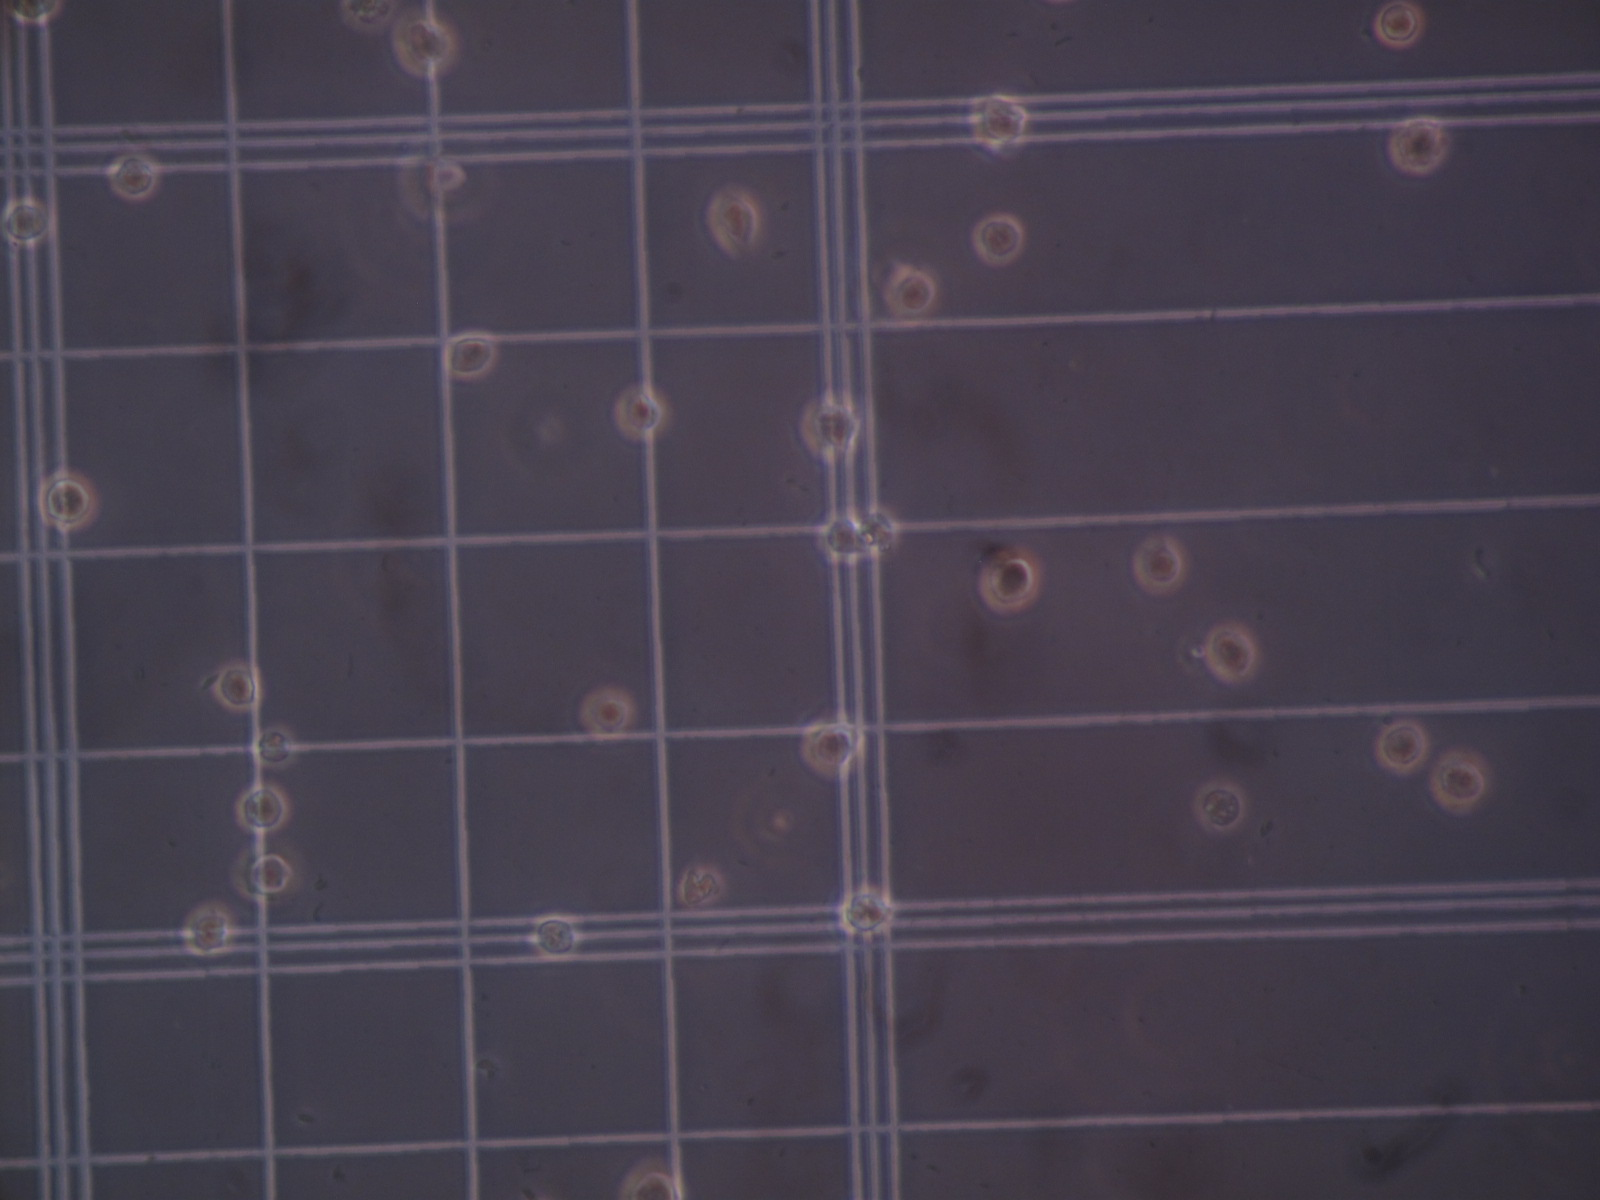hemo: (397, 134, 479, 226), (801, 392, 864, 466), (980, 545, 1039, 614), (37, 466, 97, 532), (611, 381, 670, 446), (394, 16, 459, 76), (801, 718, 867, 776), (1203, 621, 1259, 688), (883, 263, 942, 325), (232, 845, 291, 906), (1386, 117, 1448, 174), (1431, 750, 1488, 811), (706, 193, 757, 258), (968, 95, 1026, 153), (578, 684, 632, 746), (811, 507, 867, 563), (1133, 537, 1186, 596), (970, 214, 1023, 268), (839, 885, 894, 935), (3, 195, 54, 248), (236, 783, 289, 834), (443, 332, 499, 381), (1376, 718, 1426, 771), (1194, 779, 1243, 832), (210, 662, 260, 715), (183, 903, 231, 957), (106, 153, 159, 200), (527, 914, 580, 962), (619, 1161, 682, 1200), (1374, 3, 1424, 50), (860, 508, 903, 555), (254, 725, 296, 769), (335, 1, 393, 30), (6, 1, 60, 26)
